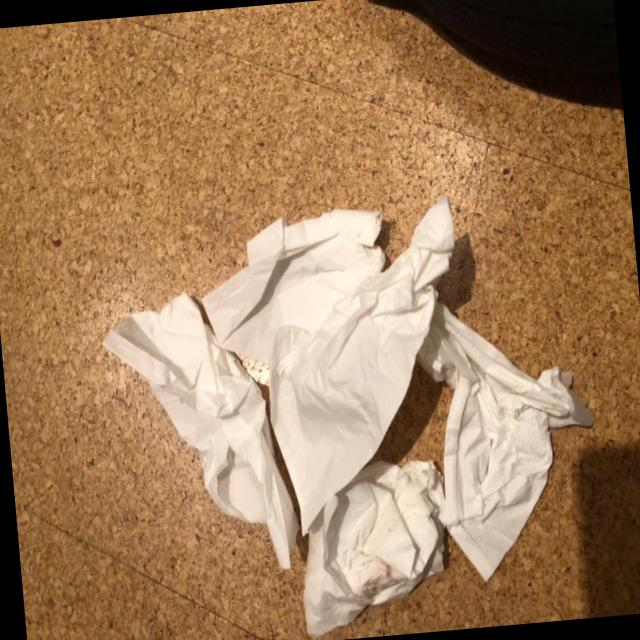organic waste: (195, 188, 482, 543), (92, 282, 297, 586), (418, 292, 606, 590), (286, 448, 454, 636)
